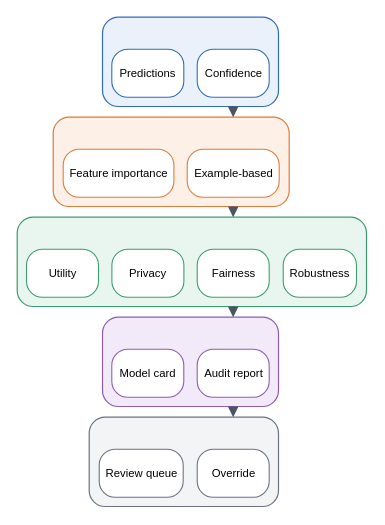
This 385x525 diagram has some shape labels left out. Each missing label, with the box of its shape:
Explainers: (52, 116, 289, 207)
Human oversight: (88, 416, 279, 507)
Model outputs: (101, 16, 279, 107)
Transparency: (101, 316, 279, 407)
Trust assessment: (16, 216, 367, 307)
